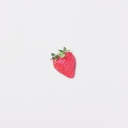strawberry: (51, 47, 77, 80)
